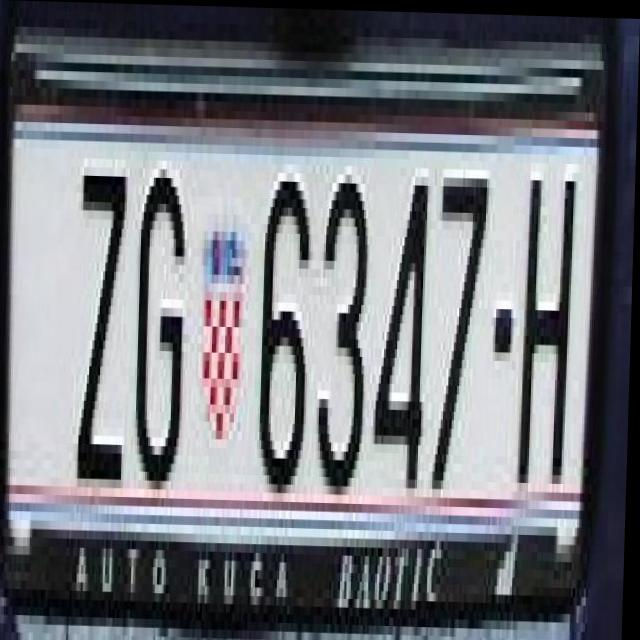3: (313, 154, 373, 493)
4: (372, 156, 435, 477)
6: (254, 162, 317, 501)
7: (428, 140, 491, 487)
G: (130, 168, 195, 489)
H: (513, 150, 576, 489)
Z: (74, 140, 130, 479)
